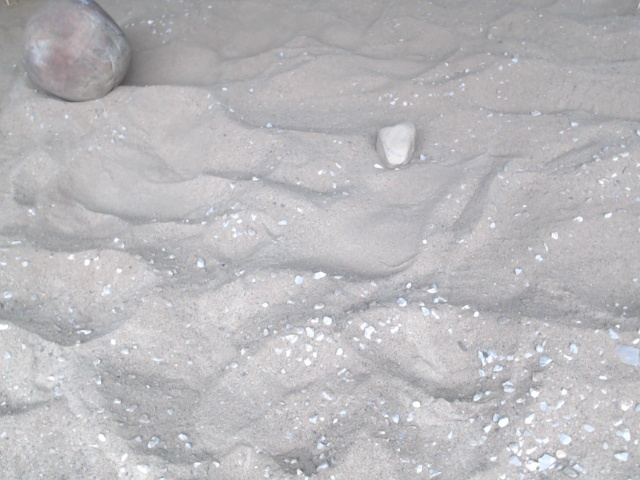rock: (13, 1, 138, 106), (371, 114, 423, 175)
